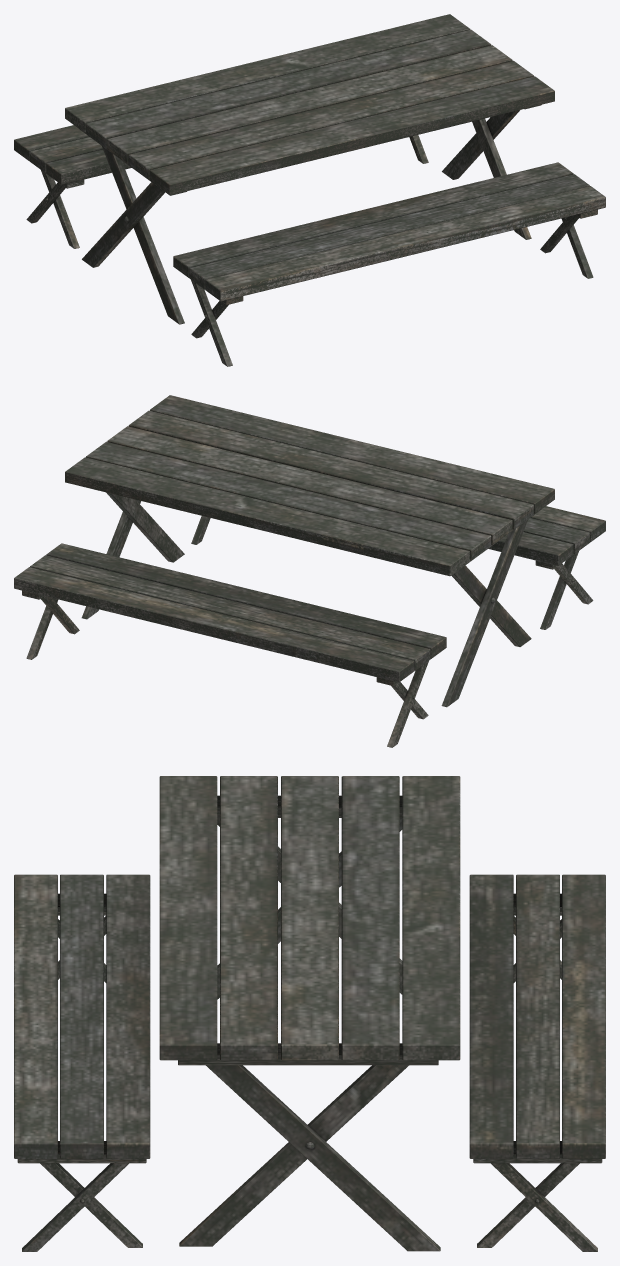
The model's file is Garden_Table.fbx.
3 renders of one model, top to bottom at view 1: azimuth 30°, elevation 25°; view 2: azimuth 150°, elevation 25°; view 3: azimuth 270°, elevation 25°, orthographic. The views are drawn at different scales.
Parts seen in each view (by area): view 1: polySurface192; view 2: polySurface192; view 3: polySurface192.
Boxes of the visible parts, box(x1,y1,x2,y2) form: polySurface192: box(14, 14, 605, 366); polySurface192: box(14, 395, 605, 747); polySurface192: box(14, 776, 605, 1251).
Size of the model in its own units: 220 by 81.57 by 205.
